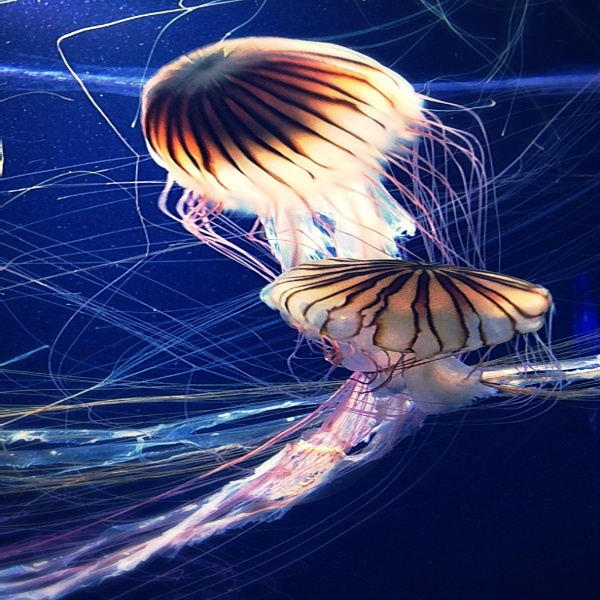Jellyfish: (0, 251, 599, 599), (141, 30, 497, 272)
